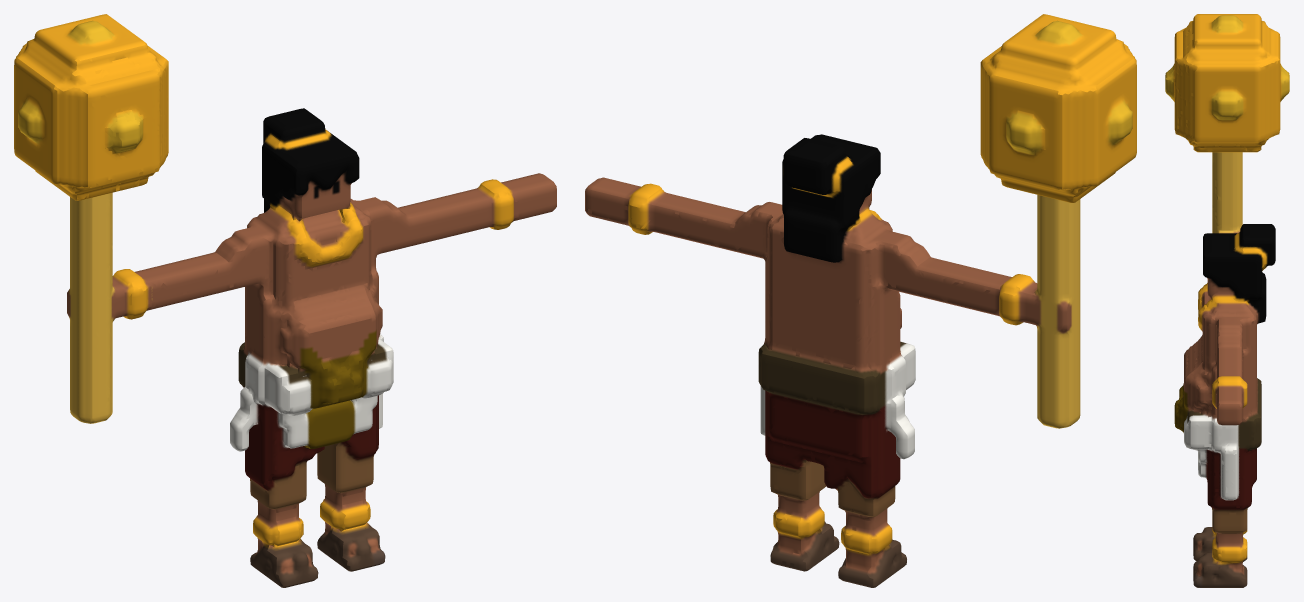
Rendered from gajahmadapakaigada3.fbx.
The picture shows the model from 3 angles, left to right: view 1: azimuth 30°, elevation 25°; view 2: azimuth 150°, elevation 25°; view 3: azimuth 270°, elevation 25°; orthographic projection. The views are drawn at different scales.
Visible parts, largest first — view 1: Object; view 2: Object; view 3: Object.
Part boxes in pixels (<box>): Object: <box>14,14,556,587</box>; Object: <box>585,14,1136,587</box>; Object: <box>1165,14,1289,587</box>.
Bounding box in the file's own units: 10.87 × 11.61 × 2.81.
1 material, 1 textured.
